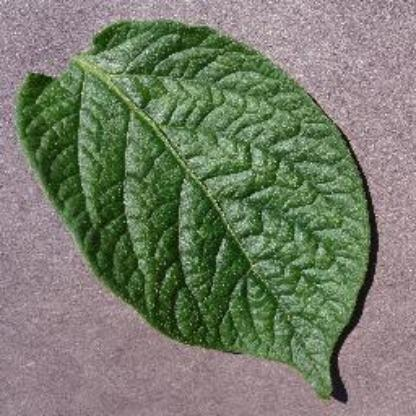Healthy-plant: (19, 15, 372, 403)
